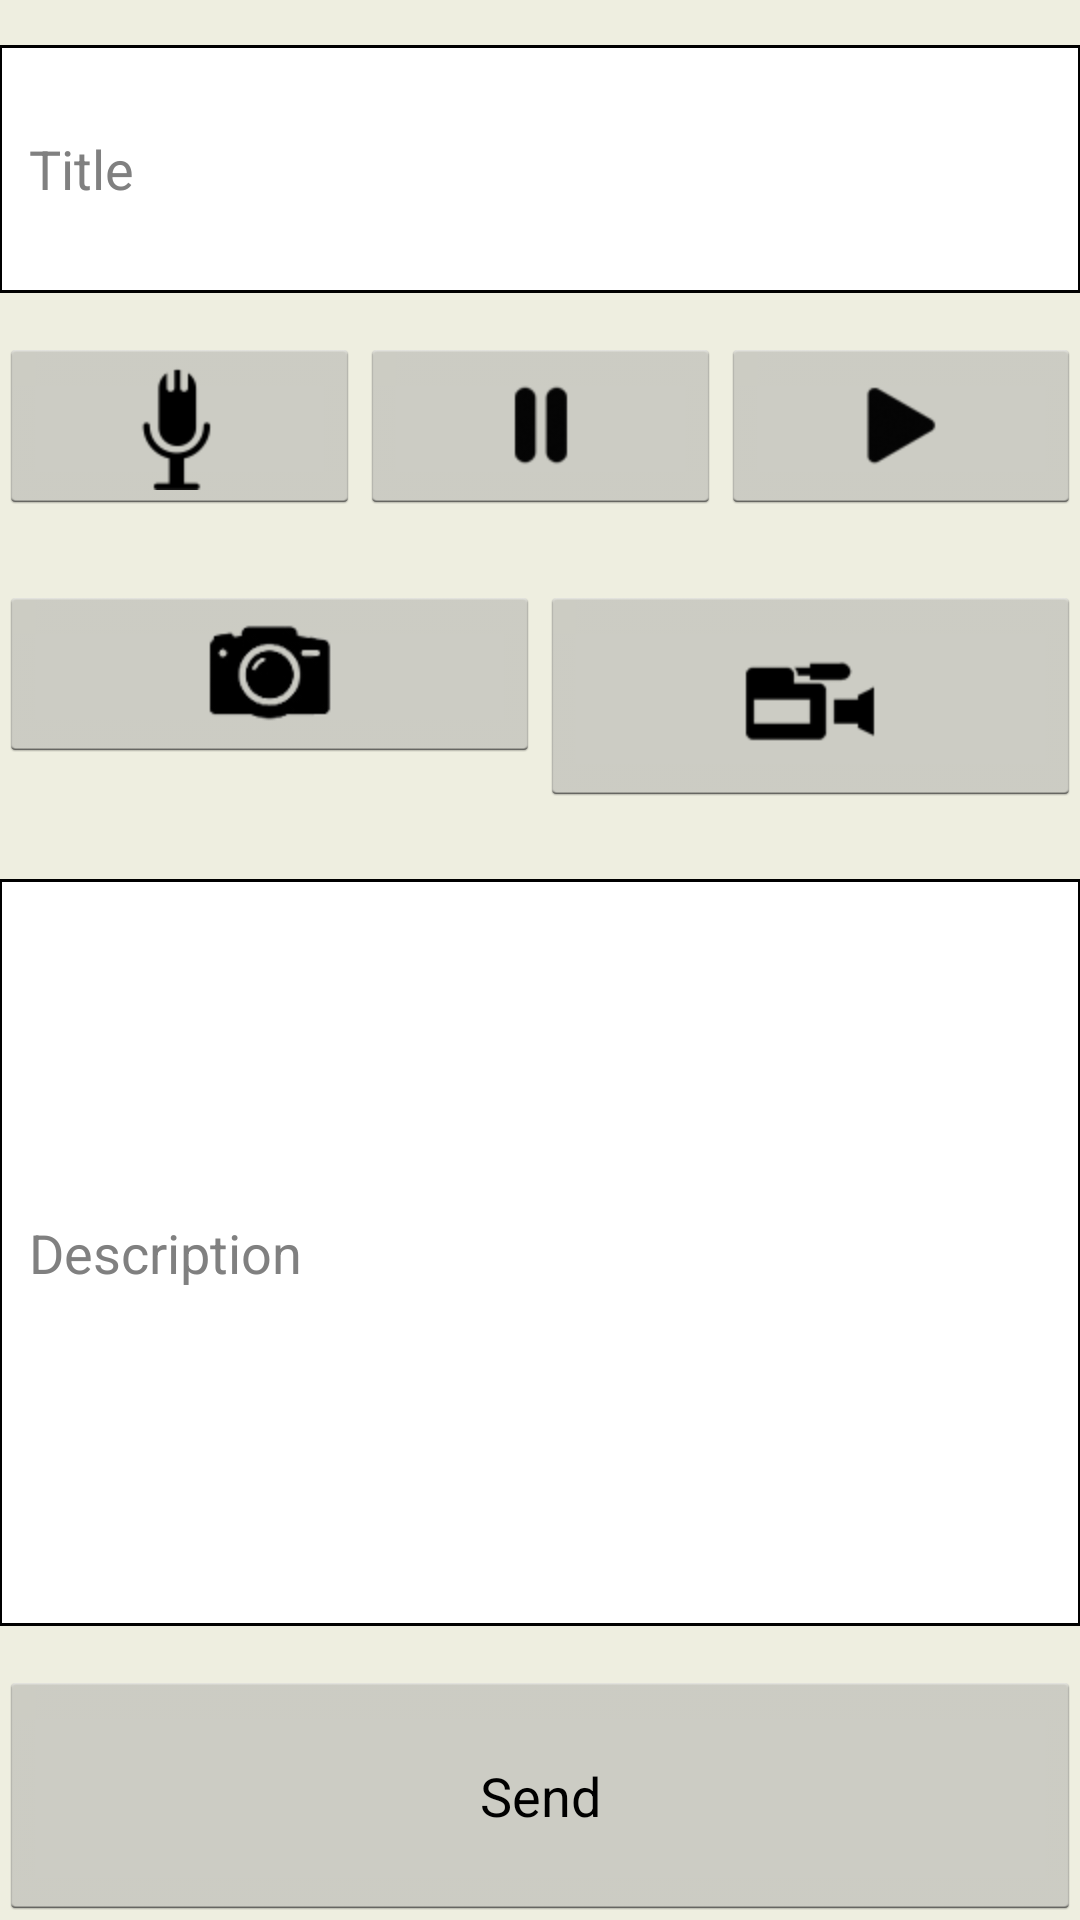

Where to tap for icons on this 1080 x 1920 app screen, as (x=x, y=y):
play: (x=901, y=427)
Record: (x=179, y=427)
